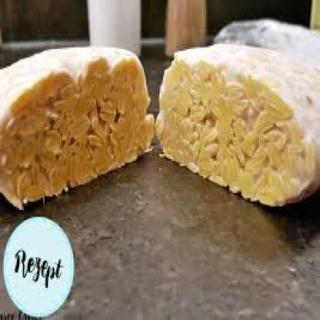Tempe: (156, 42, 320, 210), (1, 44, 155, 214)
